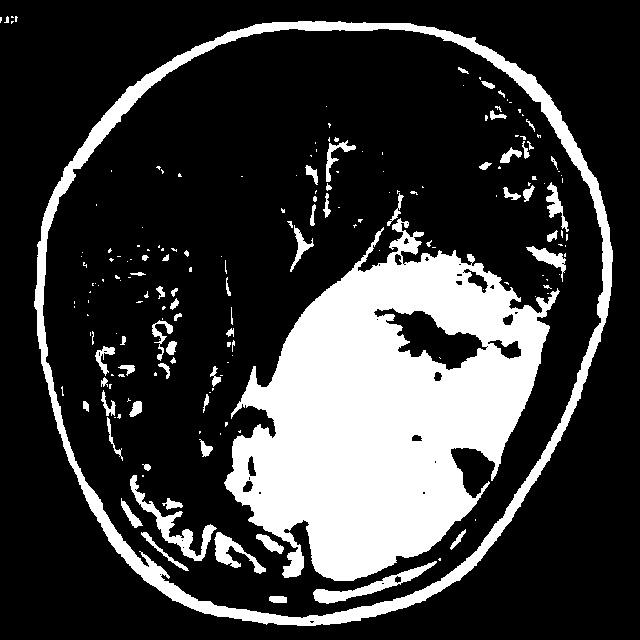Brain-Tumor: (240, 256, 554, 590)
